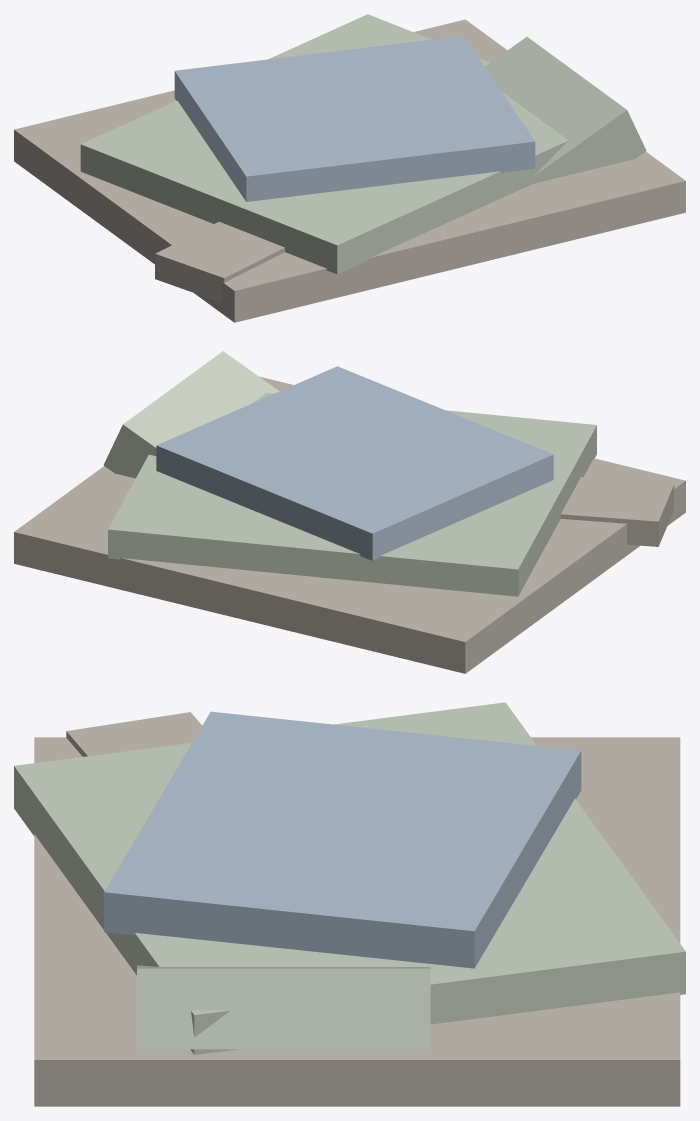
File: clothes-pile-b.gltf
3 renders of one model, top to bottom at view 1: azimuth 30°, elevation 25°; view 2: azimuth 150°, elevation 25°; view 3: azimuth 270°, elevation 25°, orthographic. The views are drawn at different scales.
Visible parts, largest first — view 1: heap_top, heap_base, heap_mid, drape, sleeve; view 2: heap_top, heap_base, heap_mid, drape, sleeve; view 3: heap_top, heap_base, heap_mid, drape, sleeve.
Part boxes in pixels (left/top/right/bottom): heap_top: left=174, top=35, right=535, bottom=201; heap_base: left=14, top=19, right=685, bottom=322; heap_mid: left=80, top=14, right=568, bottom=274; drape: left=485, top=37, right=646, bottom=183; sleeve: left=155, top=221, right=284, bottom=302; heap_top: left=156, top=366, right=553, bottom=560; heap_base: left=14, top=376, right=685, bottom=673; heap_mid: left=108, top=392, right=596, bottom=596; drape: left=103, top=351, right=279, bottom=478; sleeve: left=560, top=477, right=674, bottom=546; heap_top: left=104, top=711, right=581, bottom=968; heap_base: left=34, top=737, right=680, bottom=1106; heap_mid: left=14, top=702, right=685, bottom=1054; drape: left=137, top=965, right=430, bottom=1049; sleeve: left=66, top=712, right=202, bottom=756.
Bounding box in the file's own units: 0.0344 × 0.00682 × 0.0286.
